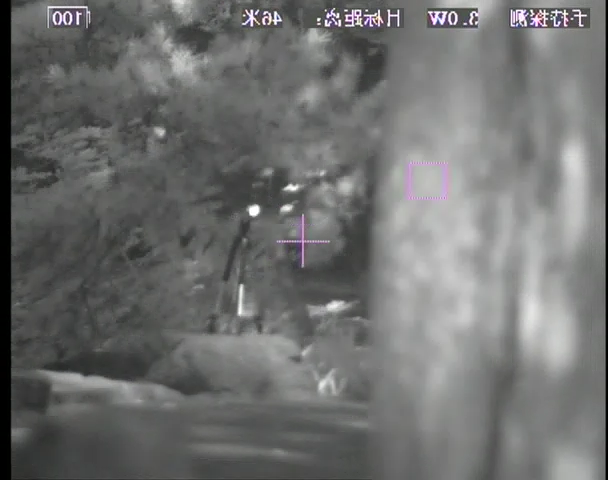my: (246, 202, 260, 219)
